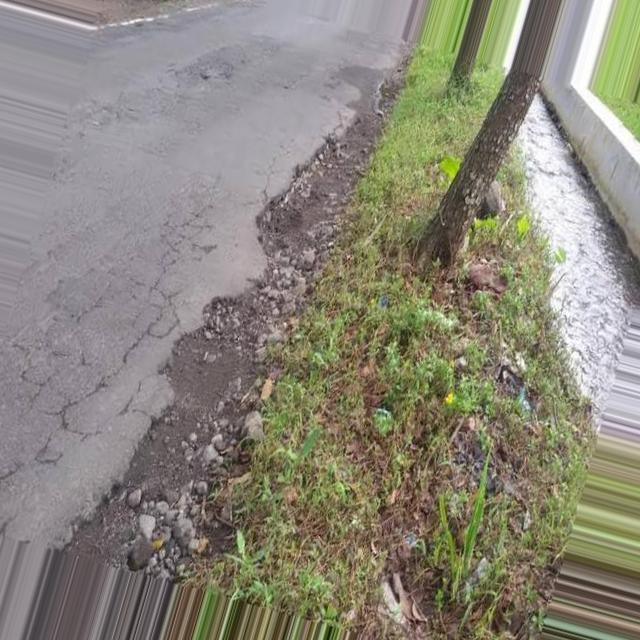Pinggir: (34, 101, 420, 579)
